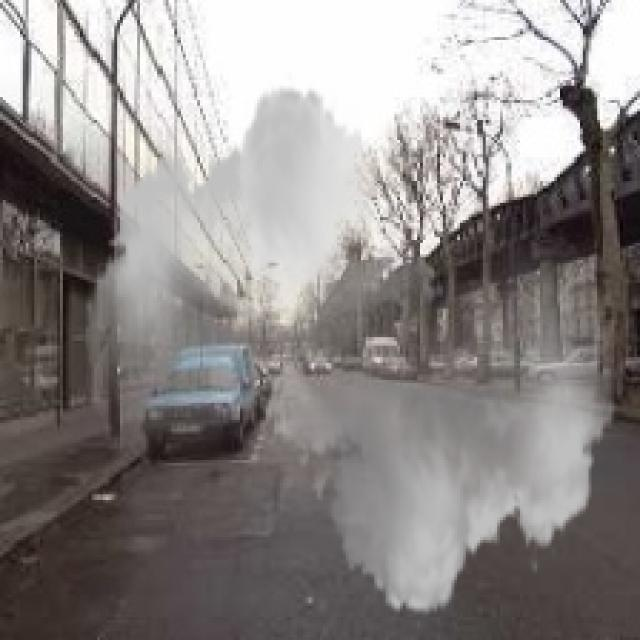Smoke: (86, 69, 623, 632)
